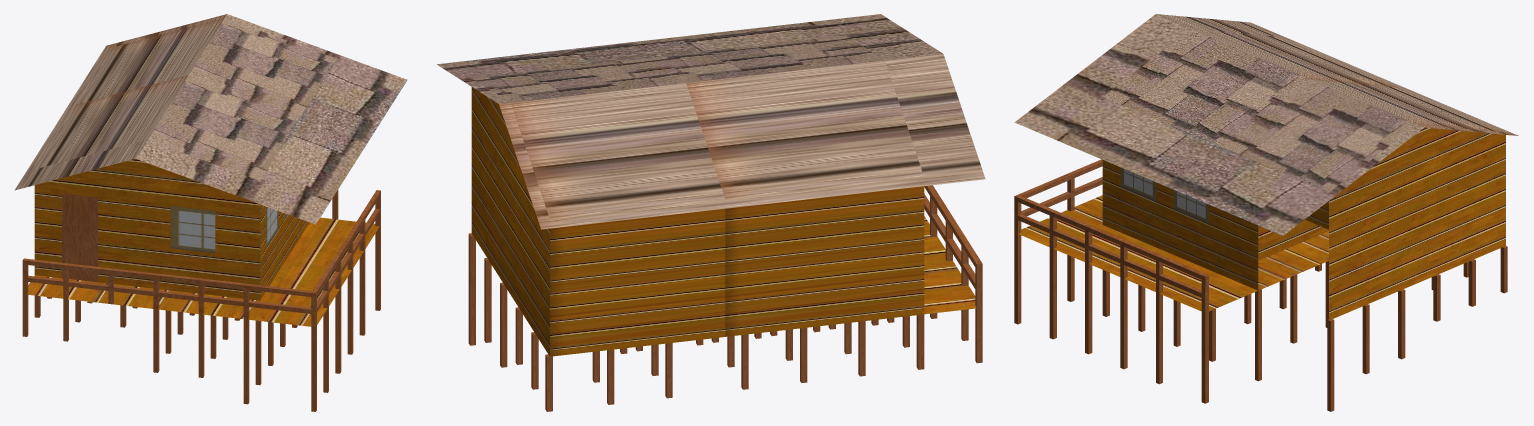
The model's file is GMLID_BUI130363_1235_6047.dae.
3 renders of one model, left to right at view 1: azimuth 30°, elevation 25°; view 2: azimuth 150°, elevation 25°; view 3: azimuth 270°, elevation 25°, orthographic. The views are drawn at different scales.
Bounding box in the file's own units: 15.15 × 15.15 × 8.25.
2 materials, 1 textured.
